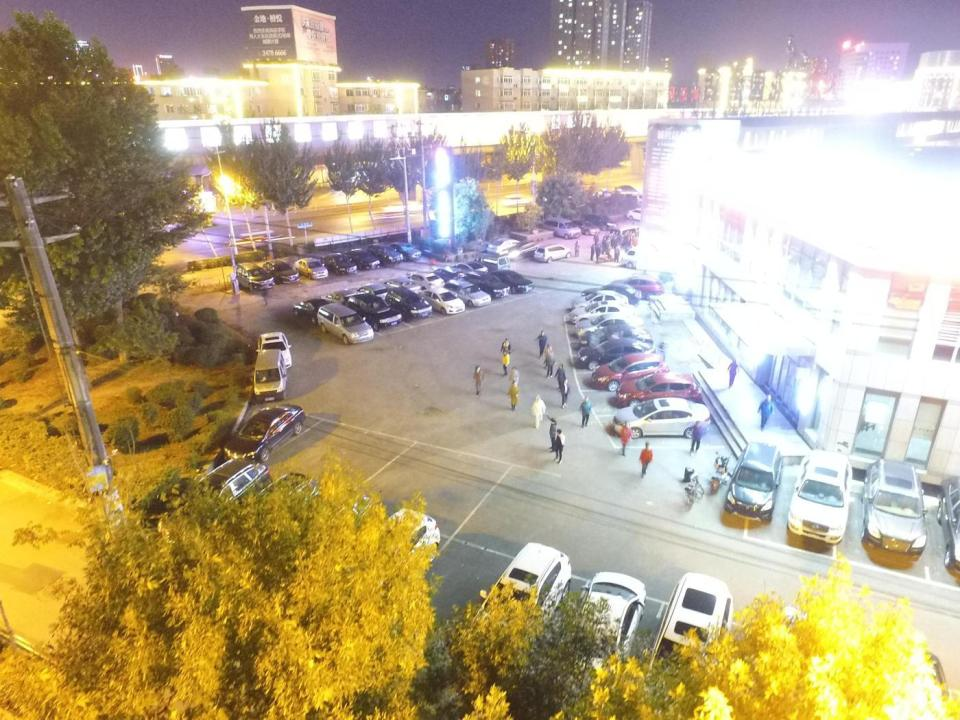car: (643, 572, 735, 714), (472, 540, 572, 670), (558, 571, 645, 706), (748, 607, 843, 720), (348, 507, 440, 594), (859, 457, 928, 555), (788, 449, 852, 543), (222, 404, 307, 463), (724, 439, 783, 522), (890, 648, 952, 720), (612, 397, 710, 439), (616, 372, 701, 408), (591, 352, 669, 391), (578, 339, 656, 371), (348, 294, 401, 331), (575, 314, 644, 339), (385, 286, 432, 322), (570, 300, 635, 324), (443, 278, 491, 308), (255, 332, 292, 369), (610, 276, 664, 301), (581, 283, 642, 305), (463, 270, 509, 299), (419, 287, 466, 315), (573, 290, 628, 313), (488, 270, 534, 294), (321, 290, 361, 314), (294, 299, 331, 324), (262, 260, 300, 284), (343, 248, 380, 270), (294, 257, 329, 280), (322, 253, 357, 276), (368, 243, 403, 266), (534, 244, 572, 264), (502, 240, 540, 260), (407, 272, 445, 292), (384, 276, 420, 297), (387, 241, 422, 262), (358, 283, 388, 305), (565, 217, 599, 236), (453, 262, 488, 279), (487, 238, 522, 254), (433, 266, 463, 283), (626, 208, 660, 222), (501, 195, 532, 208), (615, 185, 639, 198)
van: (179, 458, 269, 539), (237, 472, 317, 539), (316, 302, 374, 344), (252, 348, 286, 402), (236, 262, 274, 292), (622, 246, 666, 270), (541, 218, 582, 240), (476, 253, 510, 273), (586, 212, 617, 231)
